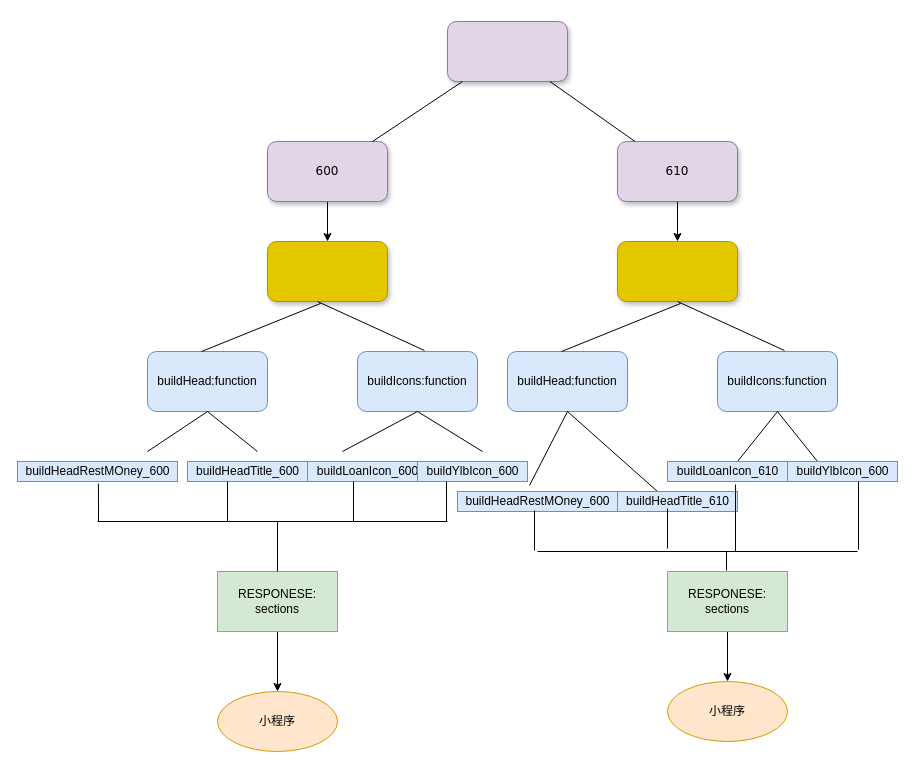
The diagram is 915 pixels wide and 769 high, and some of its shapes have lost their labels. Here are the shapes that lost their labels. From the top down, the centre of each, then its label:
At (508,52): "REQUEST: apiVersion".
At (328,272): "6.0.0-小程序-首页-l4-tob 展台".
At (678,272): "6.1.0-小程序-首页-l4-tob 展台".
